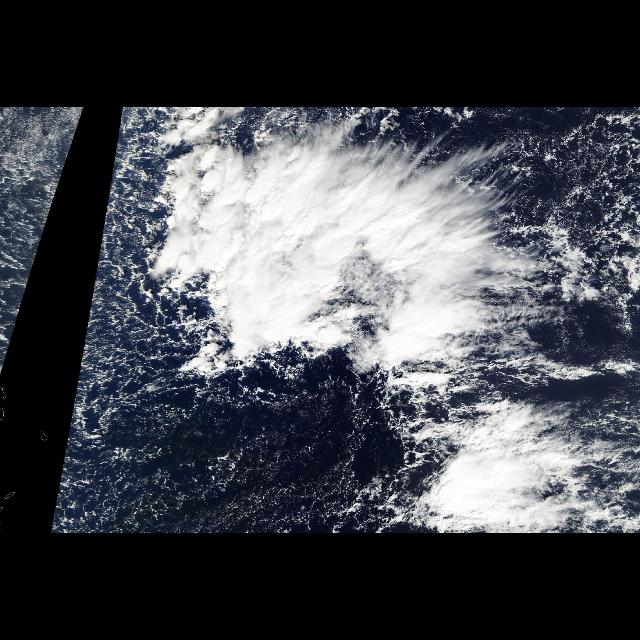Fish: (148, 109, 550, 398), (402, 401, 622, 531)
Gravel: (51, 109, 413, 533), (510, 114, 640, 316), (1, 109, 84, 375)
